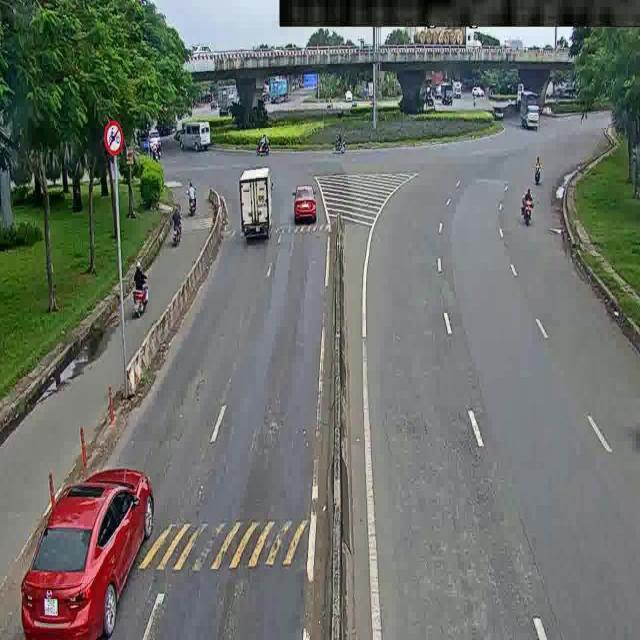car: (15, 466, 153, 640), (288, 179, 335, 236), (437, 81, 466, 117), (471, 78, 490, 102), (139, 128, 163, 142)
motorbike: (517, 189, 546, 234), (124, 264, 151, 309), (177, 177, 203, 218), (164, 209, 190, 247), (528, 155, 559, 184), (326, 134, 349, 159), (254, 130, 275, 157)
truck: (235, 169, 280, 253), (177, 122, 215, 151), (517, 92, 542, 135)
